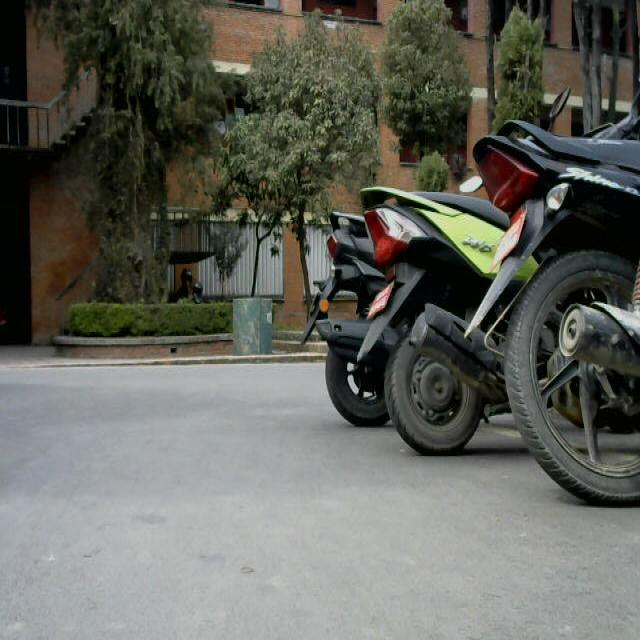Bike: (476, 89, 640, 507), (342, 156, 507, 442), (301, 204, 382, 419)
Road: (1, 373, 556, 640)
dustbin: (222, 286, 281, 357)
trees: (59, 0, 204, 308), (220, 23, 391, 212)
